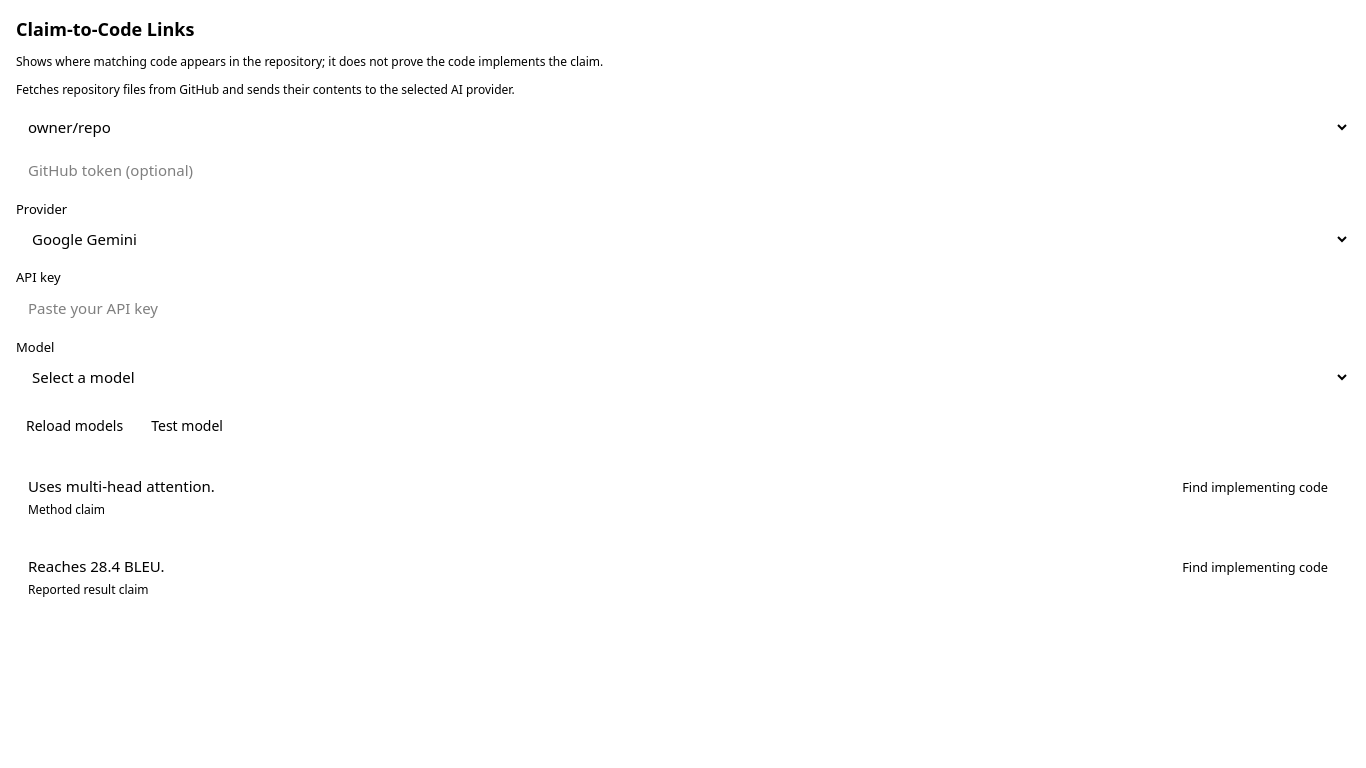
Scenario: CodeLinksPanel › sends api_key, model and GitHub token for a cloud provider
Select "Other model id…" in the dropdown labelled "Model": (683, 377) [16,360,1350,394]
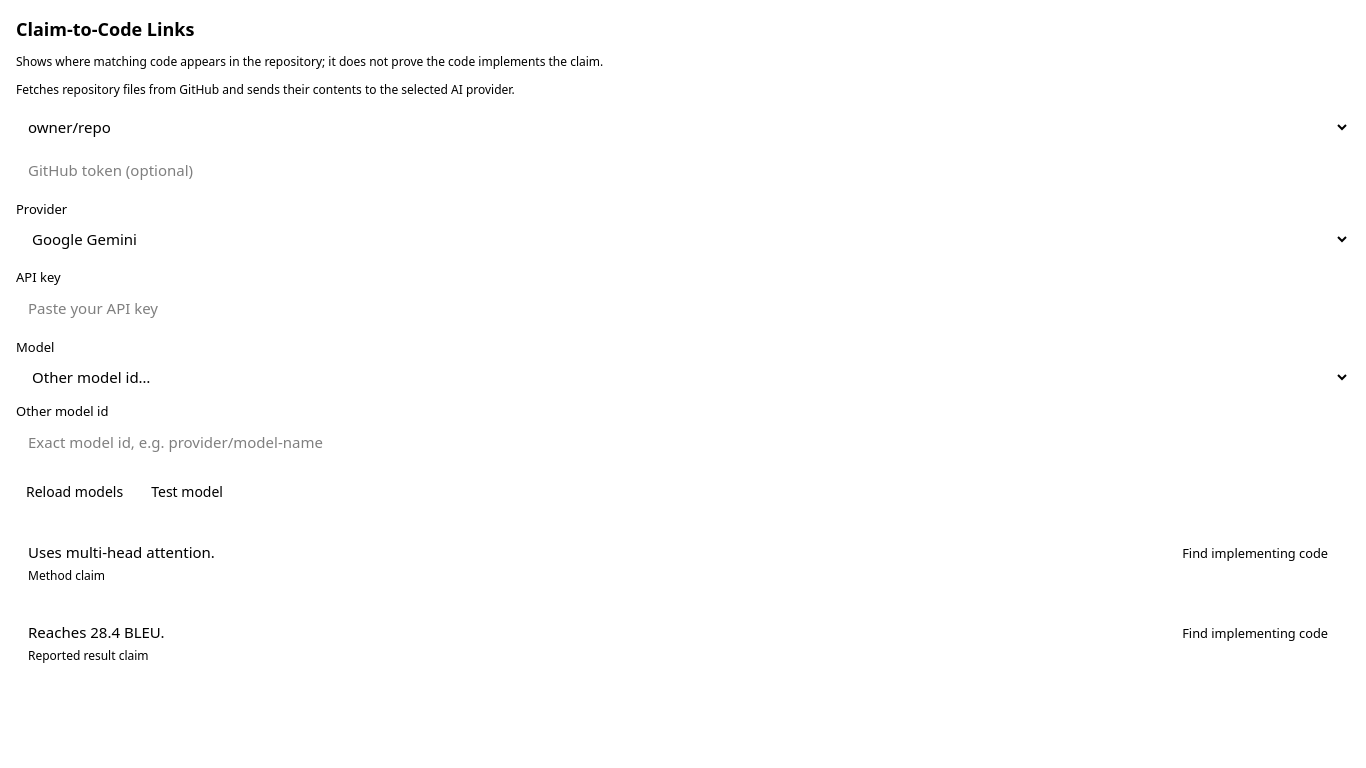
In the field labelled "Other model id": (683, 442) [16,424,1350,460], type "gemini-pro"
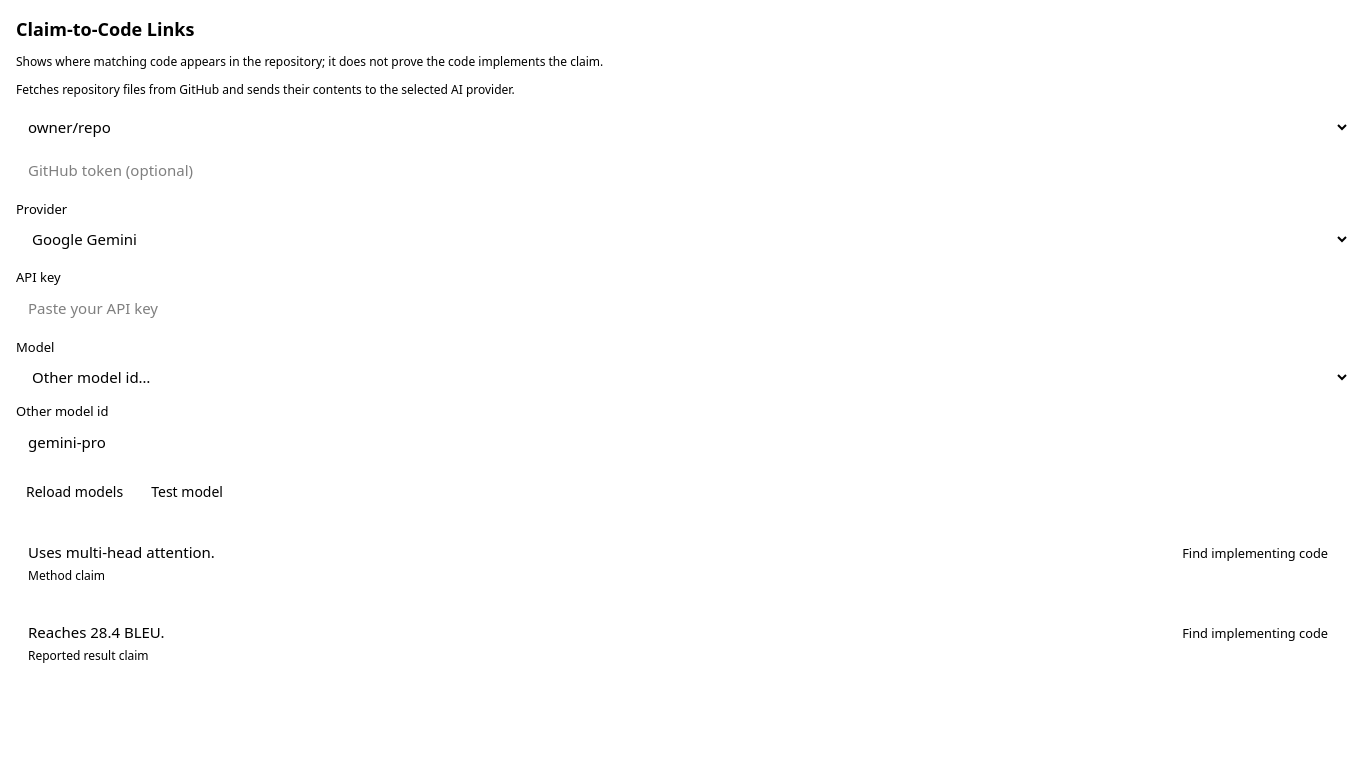
In the password field labelled "GitHub token (optional)": (112, 170) [16,152,208,188], type "ghp_x"
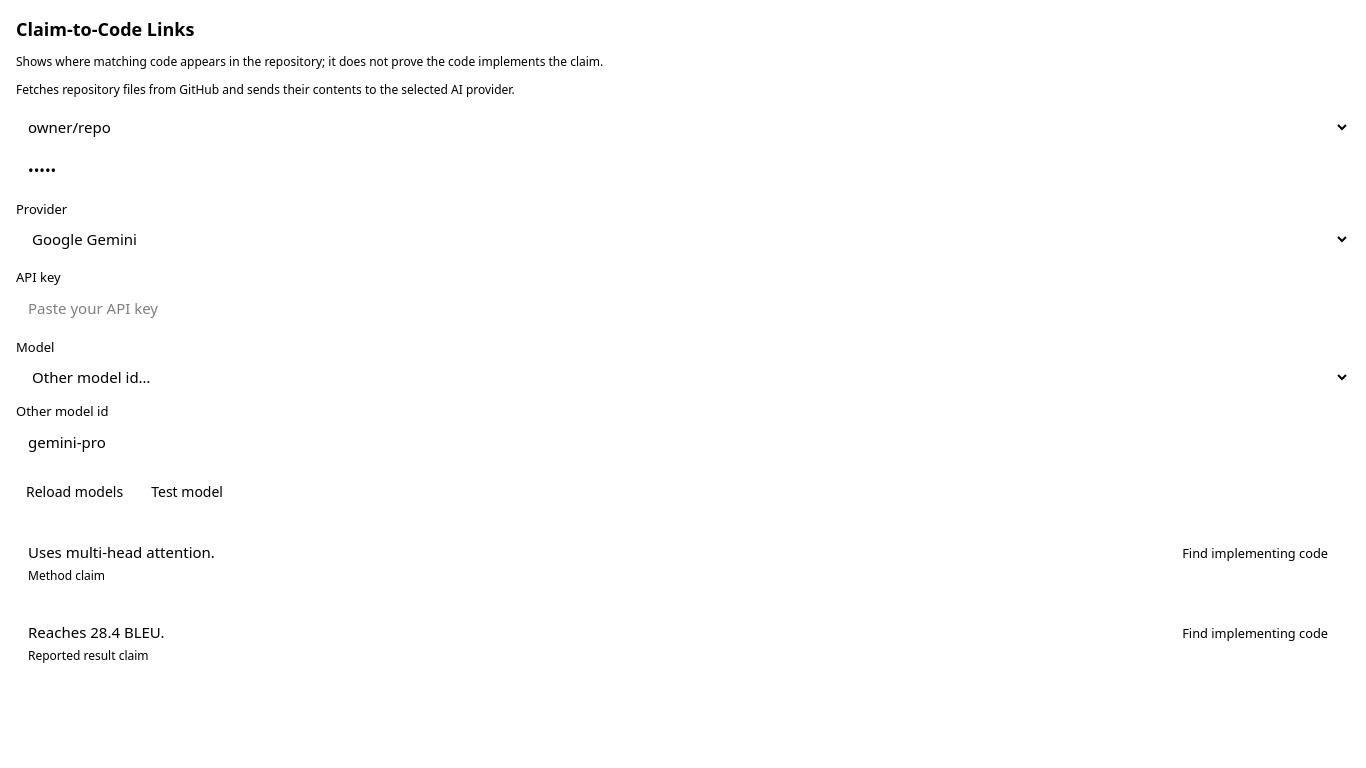
In the password field labelled "API key": (683, 308) [16,290,1350,326], type "test-key"
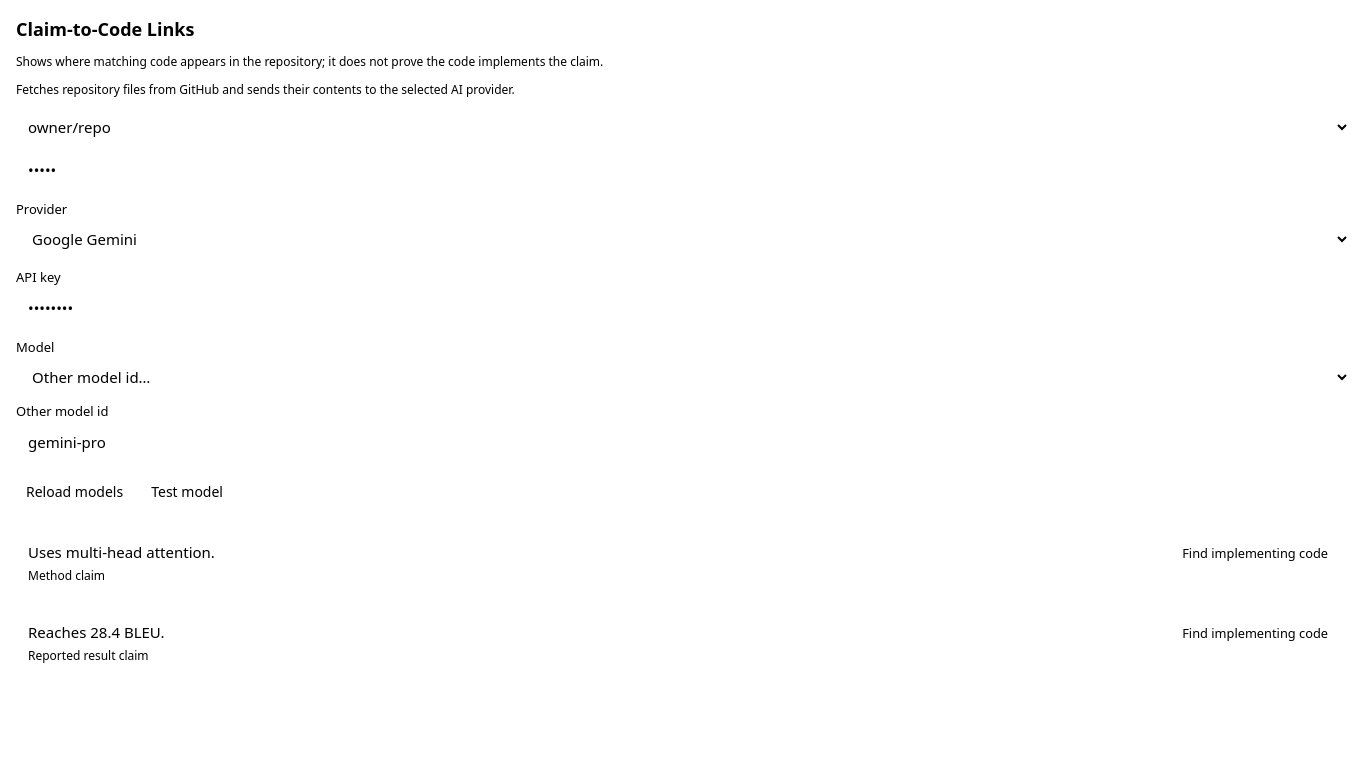
Click the button "Find implementing code" in the row of "Uses multi-head attention.": (1255, 554) [1172,540,1338,568]
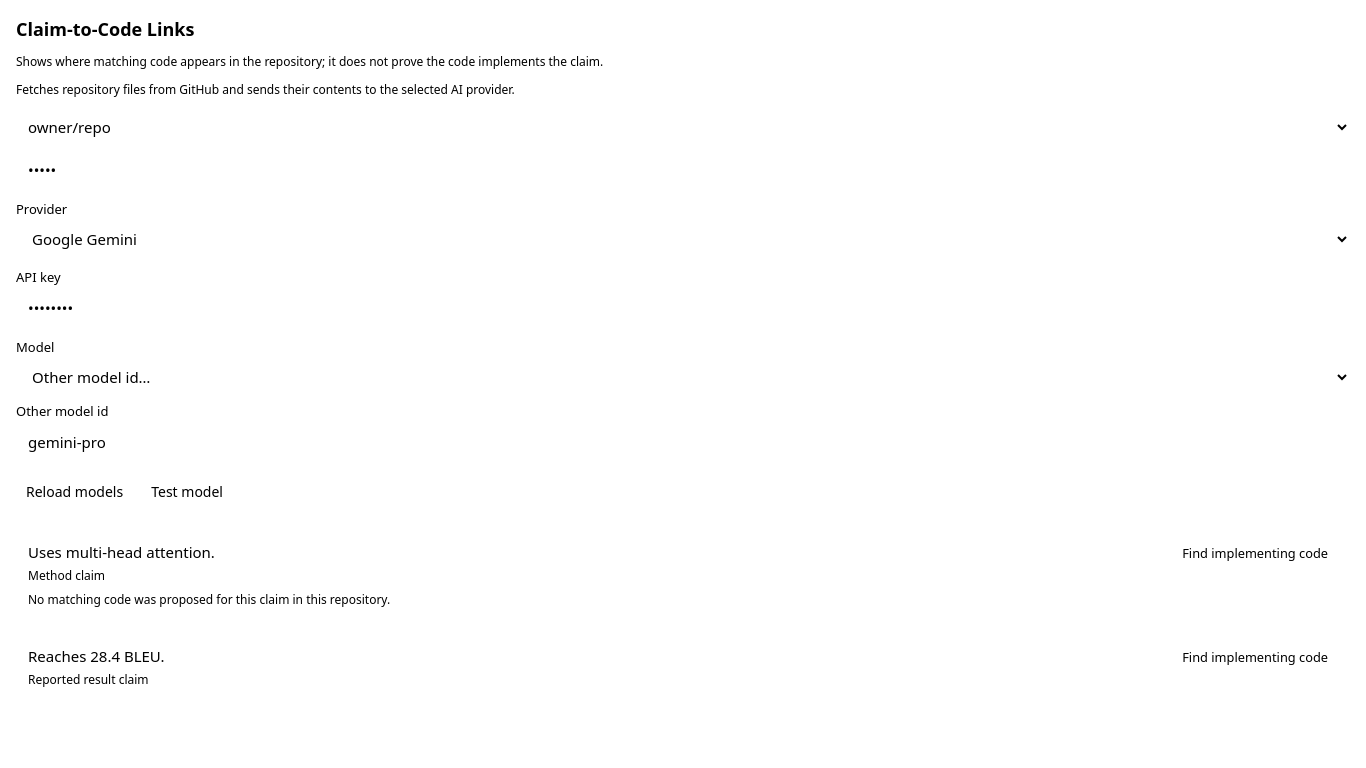
Expected: the text "No matching code was proposed for this claim in this repository." is shown, [28,591,390,608]
